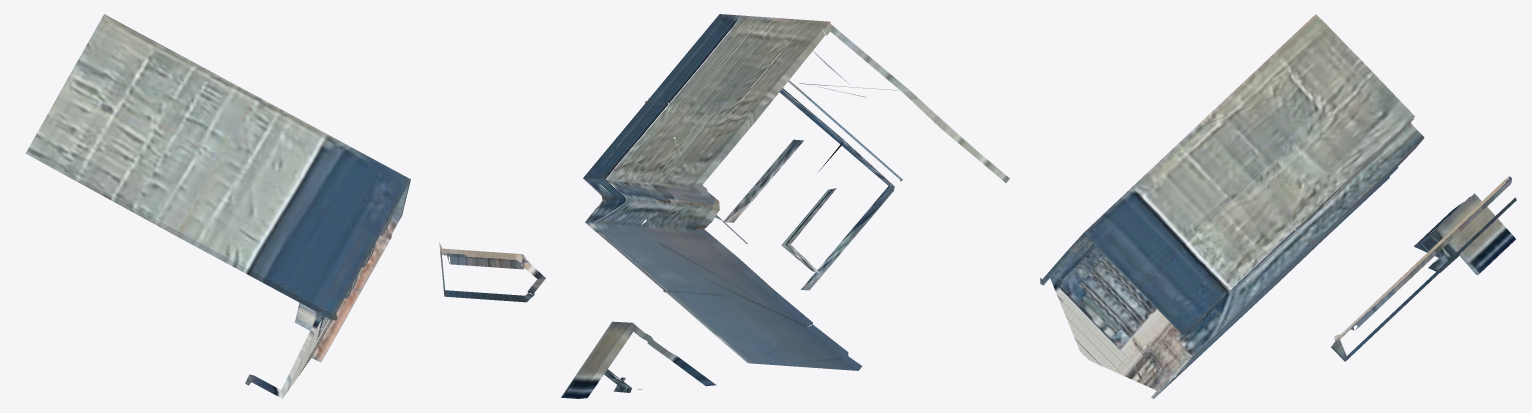
Rendered from masp_tile_3.glb.
3 renders of one model, left to right at view 1: azimuth 30°, elevation 25°; view 2: azimuth 150°, elevation 25°; view 3: azimuth 270°, elevation 25°, orthographic. The views are drawn at different scales.
Bounding box in the file's own units: 42.26 × 36.93 × 50.29.
2 materials, 2 textured.
